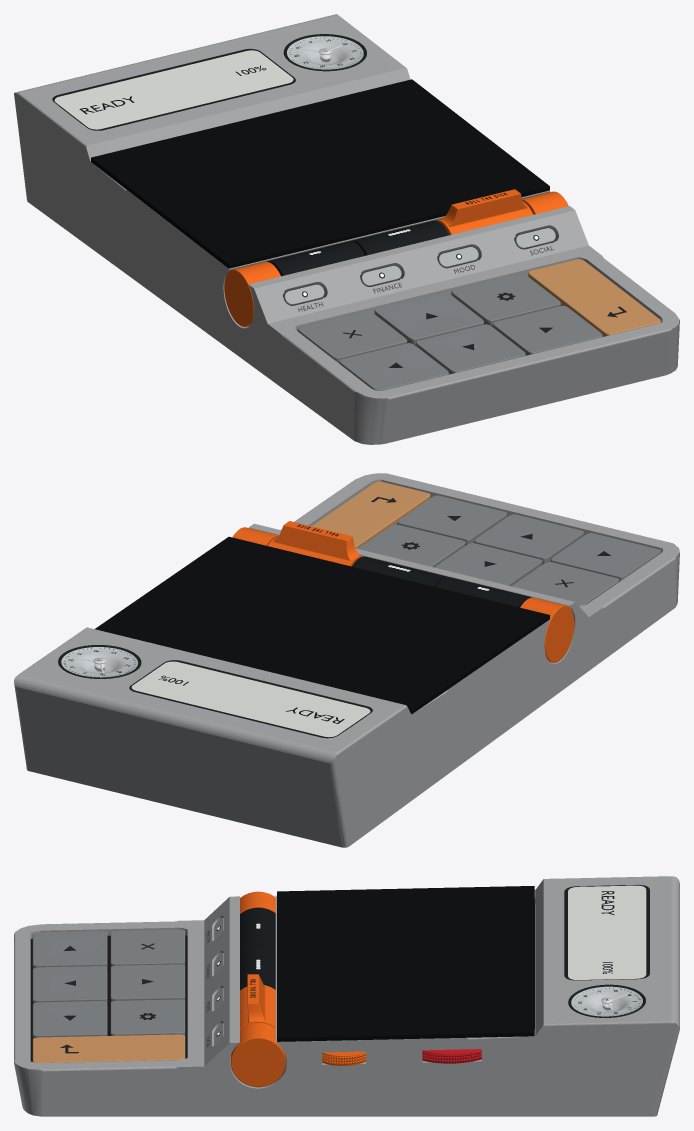
Rendered from aluminium-device-game-bk.glb.
3 views of the same model, one above another, from view 1: azimuth 30°, elevation 25°; view 2: azimuth 150°, elevation 25°; view 3: azimuth 270°, elevation 25° (orthographic). The views are drawn at different scales.
Parts seen in each view (by area): view 1: Device • recessed 6 mm channel, Screen • black glass • 96 × 40 × 1 mm, E-ink • paper display • two-thirds width, Key • far right • full-size warm orange, Key • column 3 • upper grey, Key • column 4 • upper grey, Key • column 2 • upper grey, Key • column 4 • lower grey, Key • column 3 • lower grey, Key • column 2 • lower grey, Button • middle 4 • integrated pull fin, Watch • sculpted silver bowl (+5 smaller); view 2: Device • recessed 6 mm channel, Screen • black glass • 96 × 40 × 1 mm, E-ink • paper display • two-thirds width, Key • far right • full-size warm orange, Key • column 4 • lower grey, Key • column 3 • lower grey, Key • column 2 • lower grey, Key • column 3 • upper grey, Key • column 2 • upper grey, Key • column 4 • upper grey, Button • middle 4 • integrated pull fin, Button • left end • 5 mm (+4 smaller); view 3: Device • recessed 6 mm channel, Screen • black glass • 96 × 40 × 1 mm, E-ink • paper display • two-thirds width, Key • far right • full-size warm orange, Button • right end • 5 mm, Key • column 3 • upper grey, Key • column 4 • lower grey, Key • column 3 • lower grey, Key • column 2 • lower grey, Key • column 2 • upper grey, Key • column 4 • upper grey, Watch • sculpted silver bowl (+10 smaller).
Boxes of the visible parts, x1=… form: Device • recessed 6 mm channel: x1=14, y1=14, x2=679, y2=444; Screen • black glass • 96 × 40 × 1 mm: x1=91, y1=79, x2=549, y2=268; E-ink • paper display • two-thirds width: x1=54, y1=50, x2=293, y2=129; Key • far right • full-size warm orange: x1=528, y1=259, x2=660, y2=336; Key • column 3 • upper grey: x1=374, y1=292, x2=483, y2=344; Key • column 4 • upper grey: x1=451, y1=273, x2=560, y2=326; Key • column 2 • upper grey: x1=297, y1=310, x2=407, y2=363; Key • column 4 • lower grey: x1=493, y1=305, x2=602, y2=355; Key • column 3 • lower grey: x1=416, y1=324, x2=525, y2=374; Key • column 2 • lower grey: x1=339, y1=343, x2=448, y2=390; Button • middle 4 • integrated pull fin: x1=435, y1=189, x2=533, y2=235; Watch • sculpted silver bowl: x1=287, y1=36, x2=363, y2=69; Device • recessed 6 mm channel: x1=14, y1=473, x2=679, y2=847; Screen • black glass • 96 × 40 × 1 mm: x1=95, y1=536, x2=549, y2=714; E-ink • paper display • two-thirds width: x1=131, y1=661, x2=370, y2=737; Key • far right • full-size warm orange: x1=311, y1=481, x2=430, y2=548; Key • column 4 • lower grey: x1=398, y1=495, x2=507, y2=544; Key • column 3 • lower grey: x1=474, y1=514, x2=583, y2=563; Key • column 2 • lower grey: x1=551, y1=533, x2=660, y2=581; Key • column 3 • upper grey: x1=434, y1=543, x2=542, y2=586; Key • column 2 • upper grey: x1=511, y1=561, x2=619, y2=606; Key • column 4 • upper grey: x1=358, y1=524, x2=465, y2=567; Button • middle 4 • integrated pull fin: x1=268, y1=521, x2=363, y2=566; Button • left end • 5 mm: x1=520, y1=597, x2=574, y2=662; Device • recessed 6 mm channel: x1=14, y1=876, x2=679, y2=1116; Screen • black glass • 96 × 40 × 1 mm: x1=277, y1=886, x2=534, y2=1041; E-ink • paper display • two-thirds width: x1=568, y1=885, x2=646, y2=979; Key • far right • full-size warm orange: x1=32, y1=1034, x2=185, y2=1062; Button • right end • 5 mm: x1=231, y1=1022, x2=285, y2=1087; Key • column 3 • upper grey: x1=110, y1=964, x2=185, y2=1001; Key • column 4 • lower grey: x1=32, y1=1001, x2=107, y2=1038; Key • column 3 • lower grey: x1=32, y1=966, x2=107, y2=1003; Key • column 2 • lower grey: x1=32, y1=931, x2=107, y2=968; Key • column 2 • upper grey: x1=110, y1=929, x2=185, y2=966; Key • column 4 • upper grey: x1=110, y1=999, x2=185, y2=1035; Watch • sculpted silver bowl: x1=571, y1=986, x2=642, y2=1016.
Size of the model in its own units: 0.0557 by 0.0165 by 0.1048.
